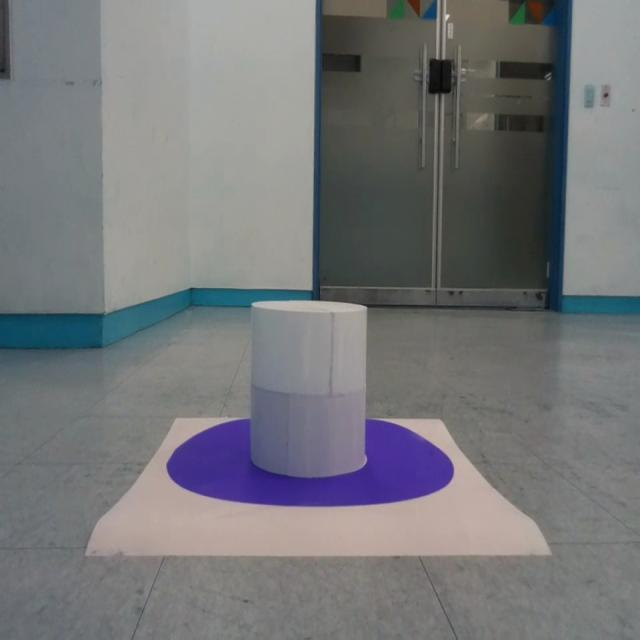cylinder: (249, 299, 368, 478)
